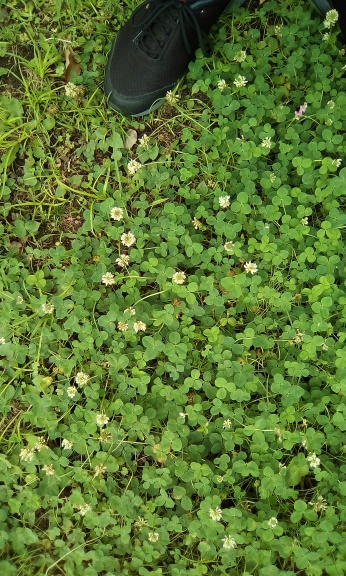4leaf: (199, 276, 214, 292)
